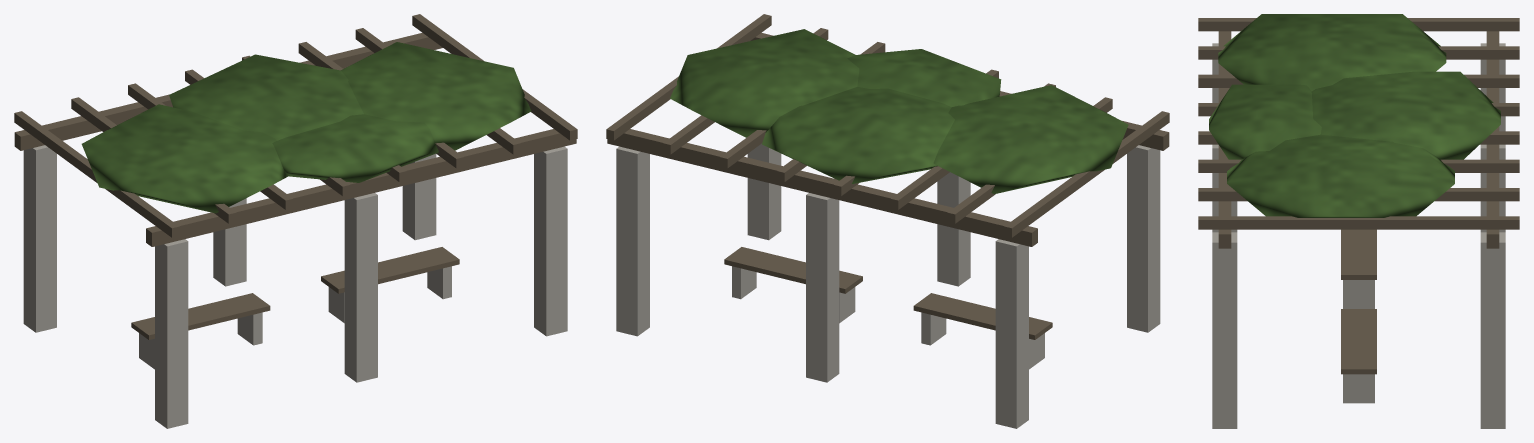
The model's file is site_feature2.fbx.
The picture shows the model from 3 angles, left to right: view 1: azimuth 30°, elevation 25°; view 2: azimuth 150°, elevation 25°; view 3: azimuth 270°, elevation 25°; orthographic projection. The views are drawn at different scales.
Visible parts, largest first — view 1: a3004/0/site_feature2; view 2: a3004/0/site_feature2; view 3: a3004/0/site_feature2.
Boxes of the visible parts, <box> form: a3004/0/site_feature2: <box>14,14,577,428</box>; a3004/0/site_feature2: <box>606,14,1169,428</box>; a3004/0/site_feature2: <box>1198,14,1519,428</box>.
Size of the model in its own units: 5.6 by 2.82 by 3.6.
